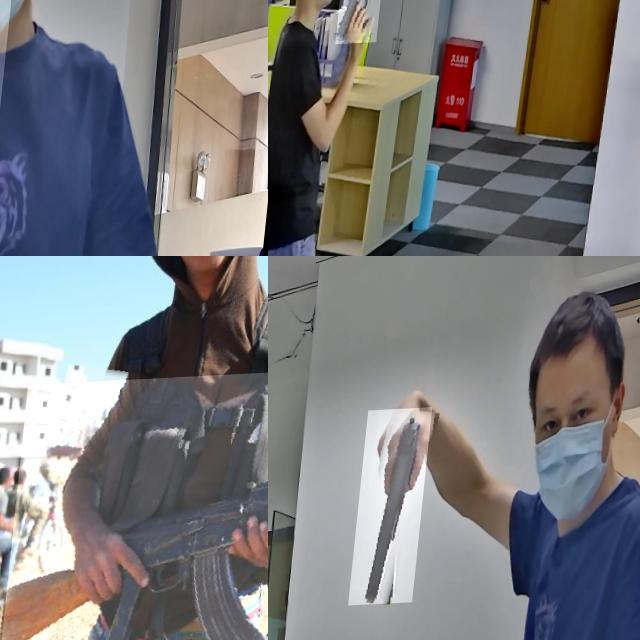gun-knife-thesis - v11 Yolov5 augmented: (7, 365, 268, 640), (361, 411, 441, 609), (0, 0, 69, 214), (340, 0, 388, 46)
